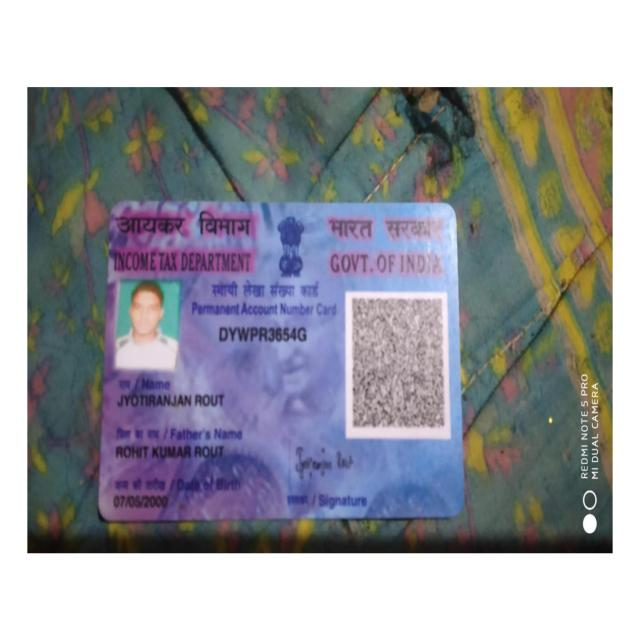pan_card: (97, 206, 458, 522)
